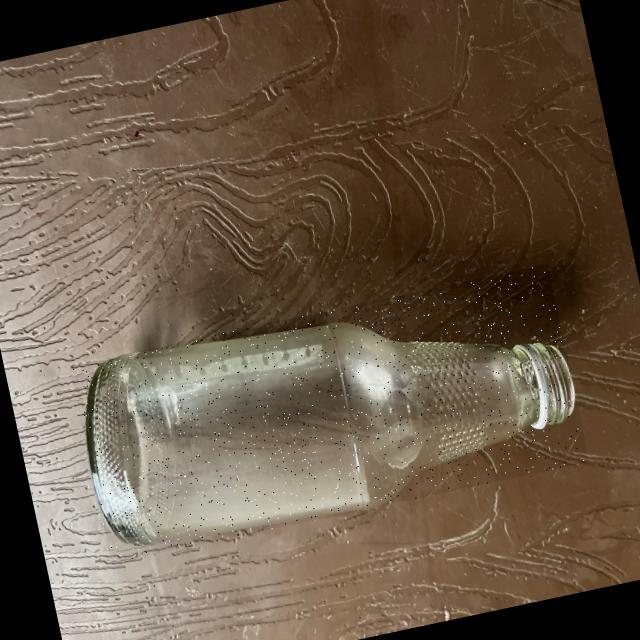Glass_Bottle: (86, 323, 574, 545)
